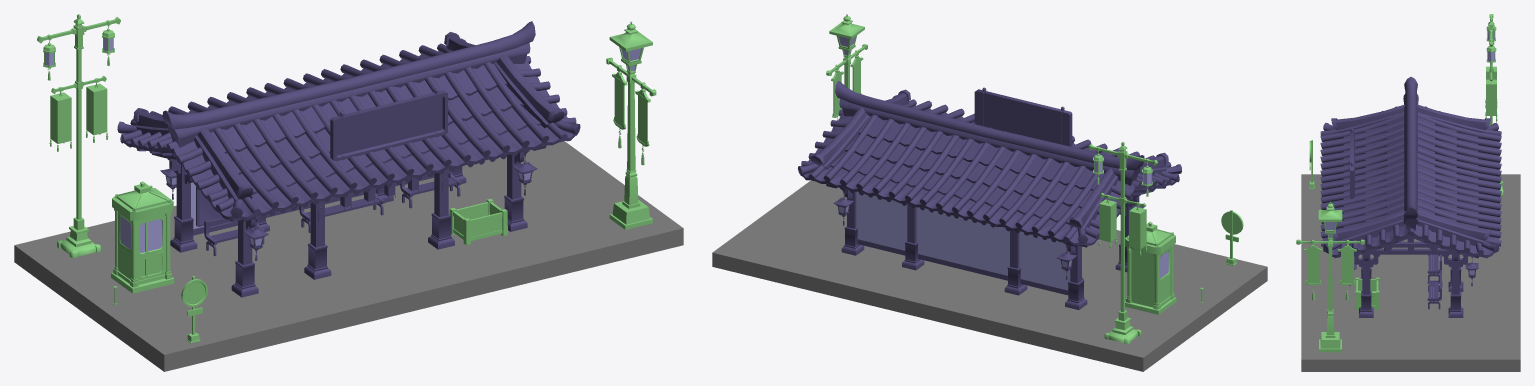
The model's file is train stop_SHY.fbx.
The picture shows the model from 3 angles, left to right: view 1: azimuth 30°, elevation 25°; view 2: azimuth 150°, elevation 25°; view 3: azimuth 270°, elevation 25°; orthographic projection. The views are drawn at different scales.
Parts seen in each view (by area): view 1: Group005, Plane023; view 2: Group005, Plane023; view 3: Group005, Plane023.
Part boxes in pixels (x1,y1,x2,y2): Group005: (37, 14, 656, 343); Plane023: (14, 141, 683, 371); Group005: (798, 14, 1243, 344); Plane023: (712, 180, 1267, 371); Group005: (1296, 14, 1503, 352); Plane023: (1301, 174, 1520, 371).
Size of the model in its own units: 472 by 219 by 242.
